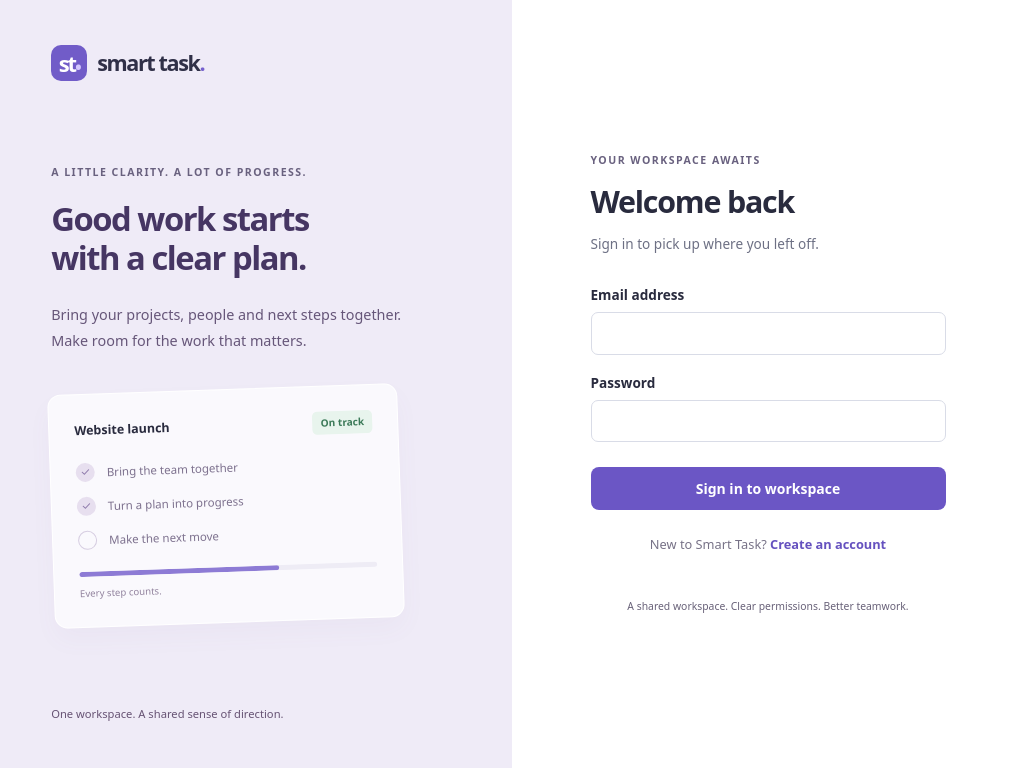
validates login fields before sending credentials
Expected: the heading "Welcome back" is shown, [590, 181, 794, 222]
Click the button "Sign in to workspace".
click(768, 489)  # box [590, 467, 946, 510]
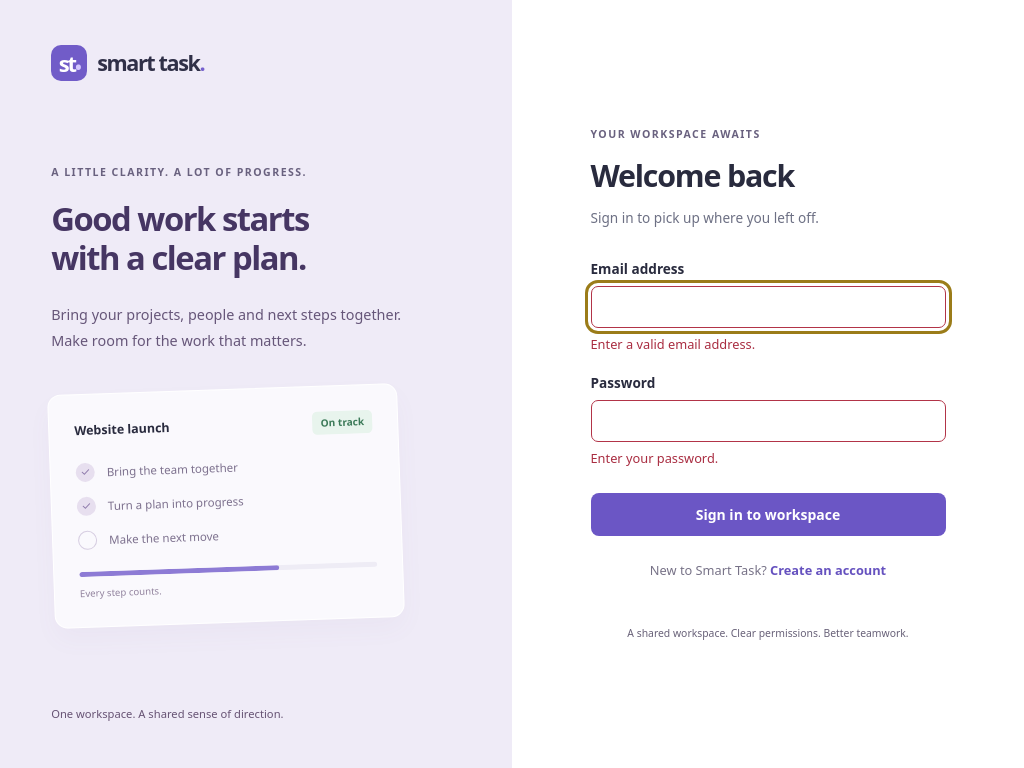
Expected: the text "Enter a valid email address." is shown, [590, 335, 755, 353]
Expected: the text "Enter your password." is shown, [590, 449, 718, 467]
